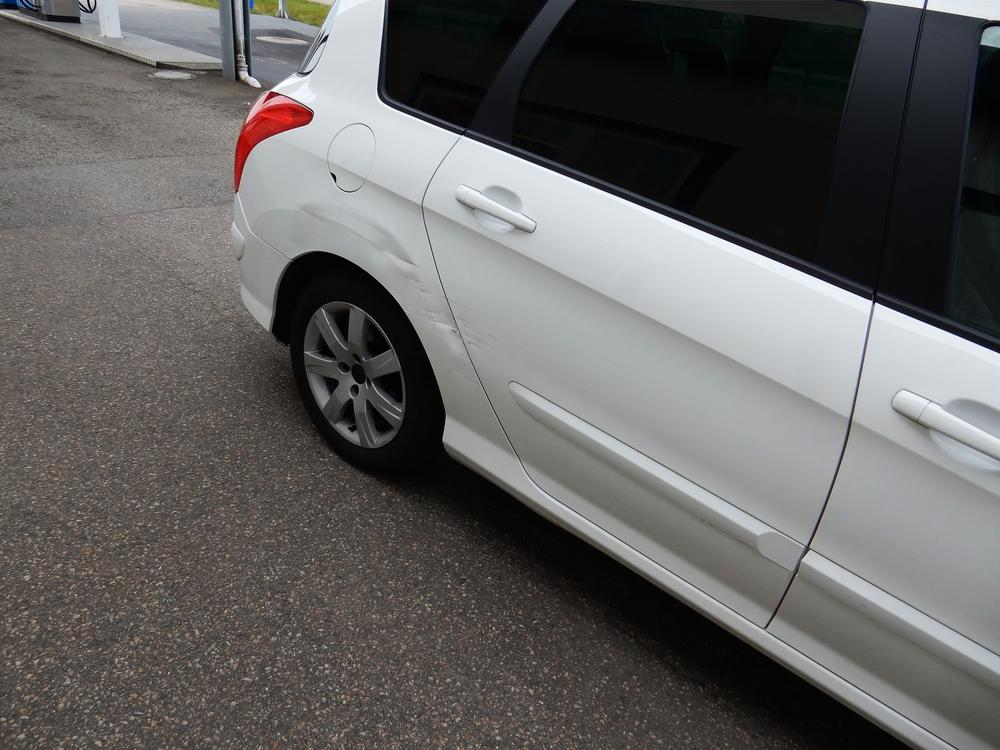dent: (292, 205, 467, 355)
scratch: (454, 305, 500, 355)
